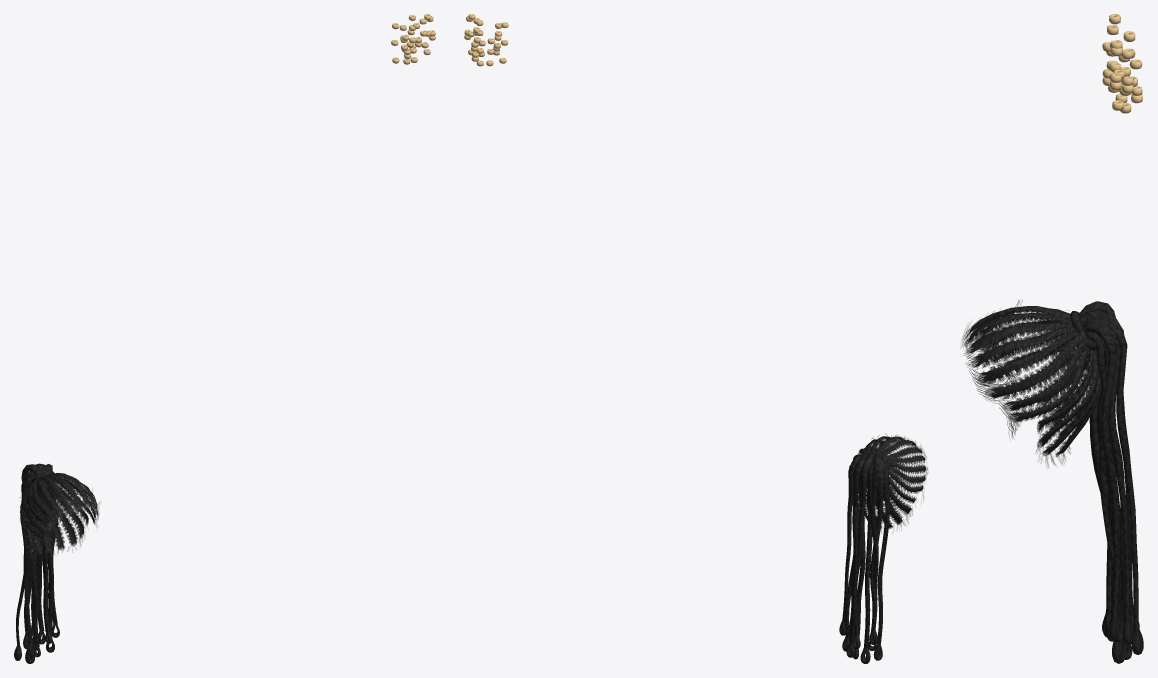
File: tonytail3.gltf
3 views of the same model, side by side, from view 1: azimuth 30°, elevation 25°; view 2: azimuth 150°, elevation 25°; view 3: azimuth 270°, elevation 25° (orthographic). The views are drawn at different scales.
Visible parts, largest first — view 1: Object_3, Object_2; view 2: Object_3, Object_2; view 3: Object_3, Object_2.
Boxes of the visible parts, x1,y1,x2,y2 form: Object_3: (14,463,100,663); Object_2: (391,14,435,64); Object_3: (839,434,928,663); Object_2: (464,14,508,66); Object_3: (960,299,1143,663); Object_2: (1102,14,1142,113).
Size of the model in its own units: 4.63 by 5.61 by 0.9885.
2 materials, 1 textured.
